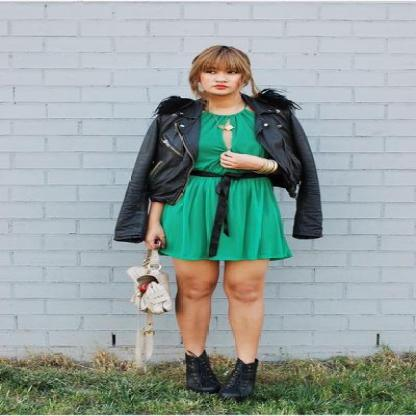dress: (162, 108, 286, 261)
jacket: (113, 91, 322, 240)
shoe: (181, 350, 257, 390)
